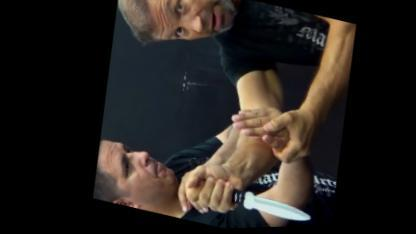knife: (170, 162, 315, 230)
